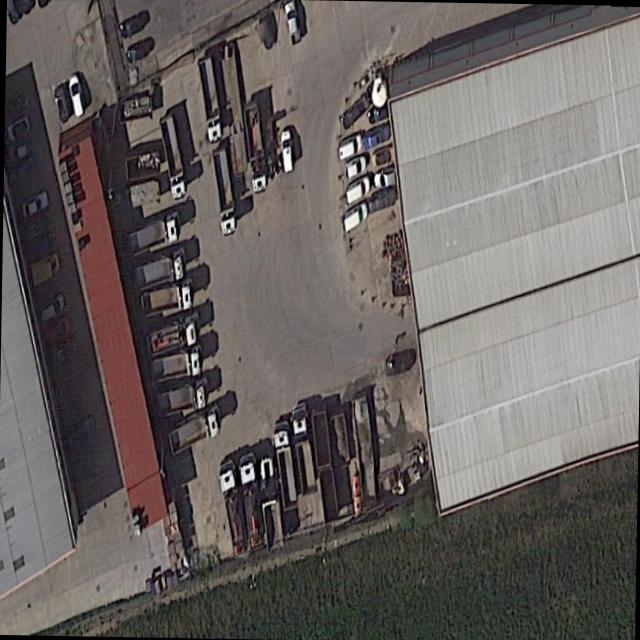large-vehicle: (215, 460, 250, 561), (163, 404, 220, 458), (236, 450, 266, 552), (256, 453, 284, 554), (288, 401, 317, 498), (239, 99, 266, 198), (156, 113, 186, 202), (270, 417, 298, 512), (194, 53, 223, 144), (208, 146, 236, 239), (130, 246, 183, 292), (127, 211, 180, 257), (142, 312, 196, 357), (152, 376, 206, 420), (148, 343, 200, 386), (139, 277, 192, 319), (27, 249, 61, 289)
small-vehicle: (64, 411, 94, 453), (339, 93, 369, 132), (5, 153, 36, 189), (42, 312, 71, 350), (46, 335, 76, 371), (341, 199, 368, 235), (117, 10, 145, 44), (360, 121, 391, 151), (36, 291, 64, 324), (19, 189, 47, 220), (4, 112, 30, 145), (65, 74, 84, 118), (365, 188, 396, 214), (283, 1, 300, 47), (336, 132, 362, 162), (344, 175, 369, 206), (51, 83, 70, 123), (383, 351, 411, 378), (123, 38, 149, 67), (369, 144, 396, 170), (7, 135, 31, 164), (277, 131, 293, 174), (366, 103, 390, 128), (342, 155, 365, 180), (371, 167, 394, 191)
